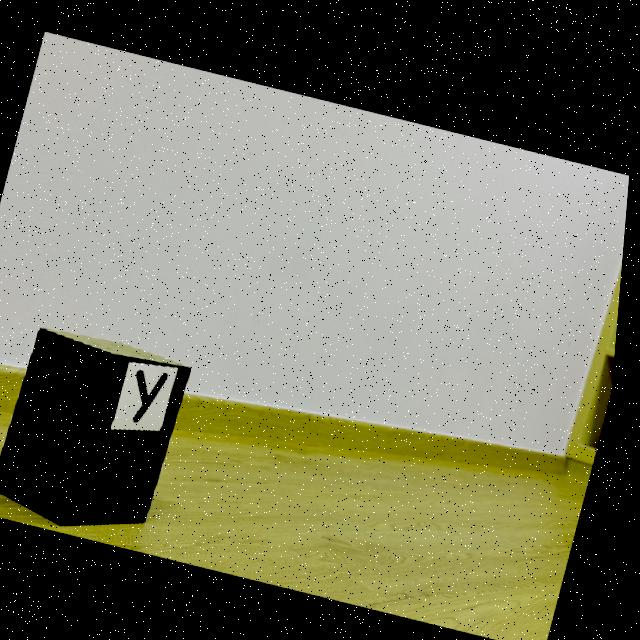Y: (139, 367, 174, 420)
